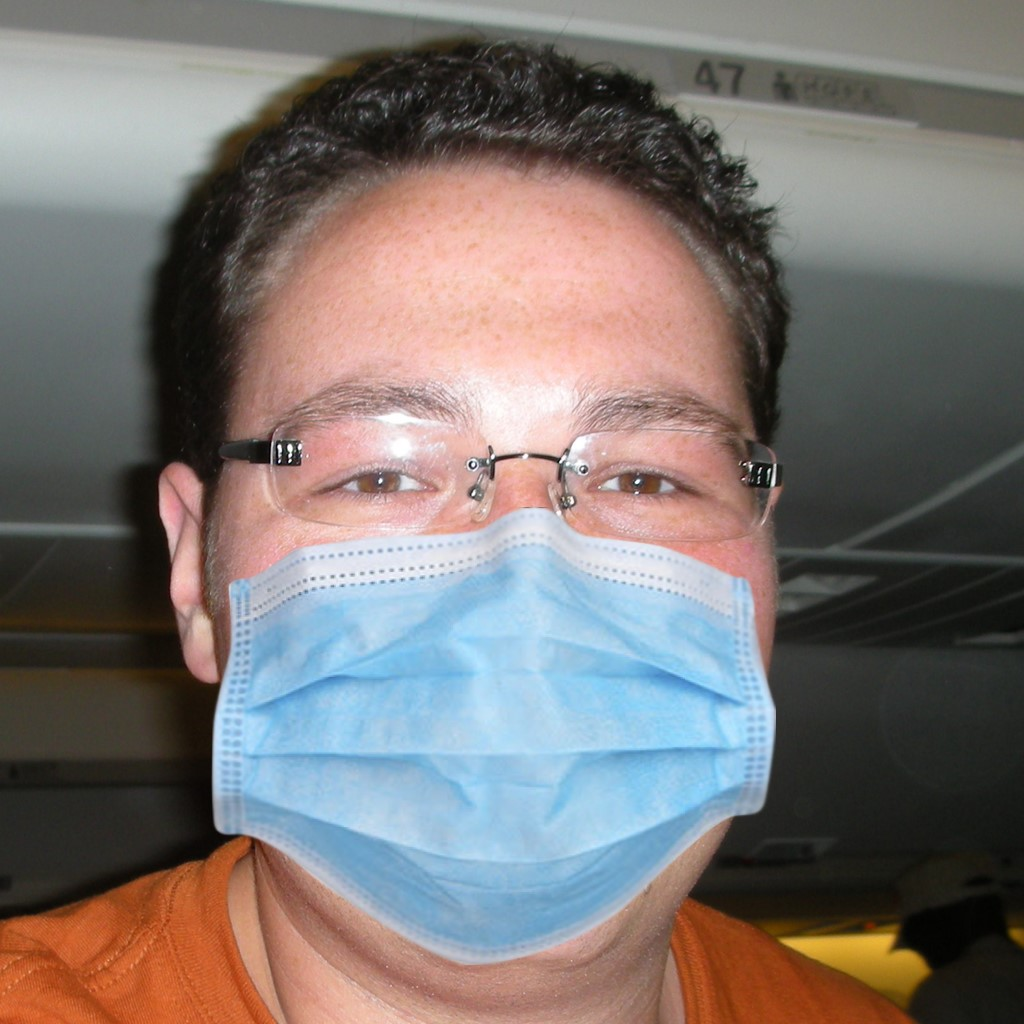con_mascara: (212, 190, 783, 968)
